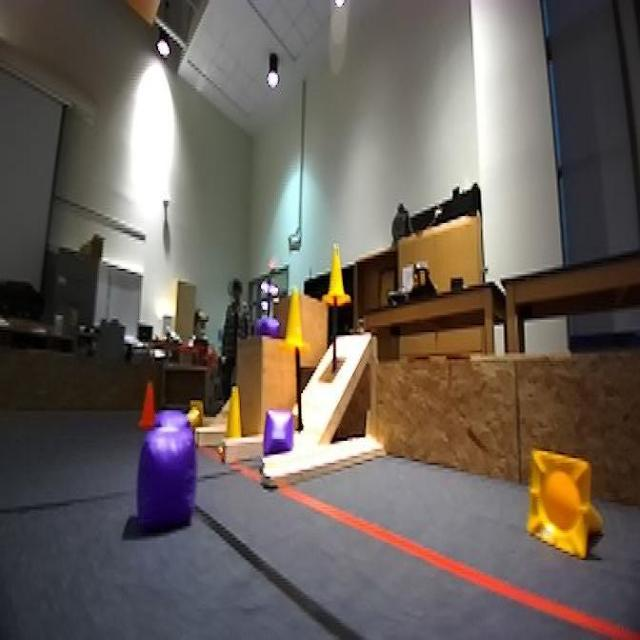frc_cone: (521, 438, 608, 568), (324, 242, 353, 306), (286, 294, 311, 350), (176, 403, 213, 432), (225, 381, 244, 436)
frc_cube: (141, 428, 204, 530), (263, 408, 300, 454), (266, 310, 291, 349)
